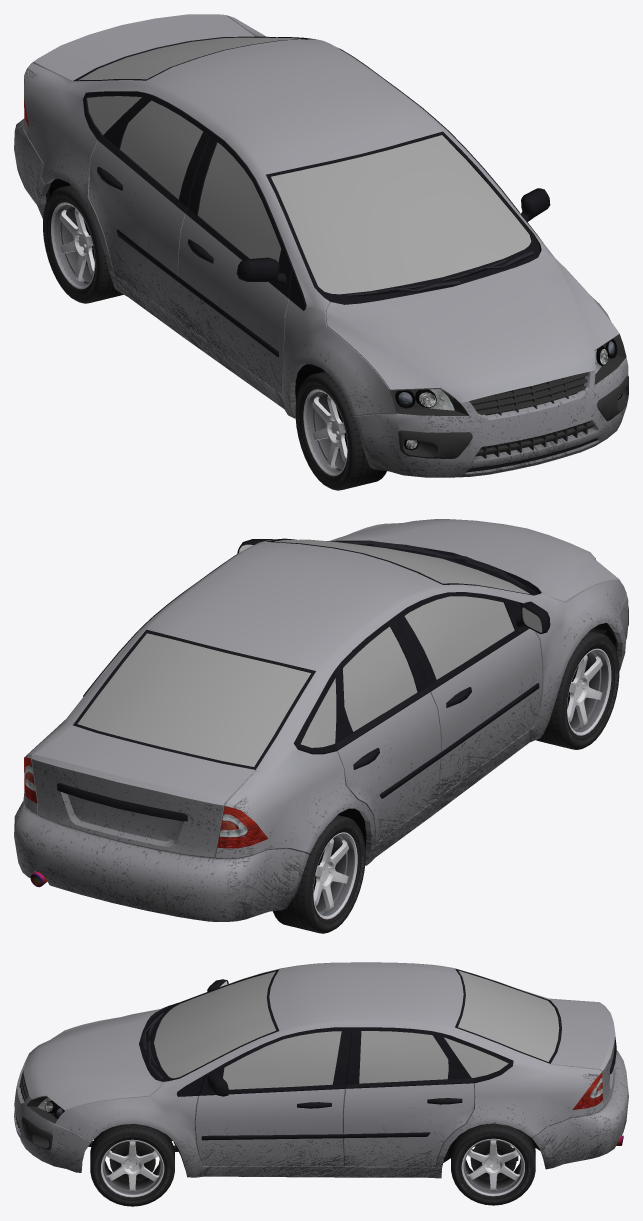
File: TocusUPDATED.fbx
3 views of the same model, one above another, from view 1: azimuth 30°, elevation 25°; view 2: azimuth 150°, elevation 25°; view 3: azimuth 270°, elevation 25° (orthographic). The views are drawn at different scales.
Visible parts, largest first — view 1: Tocus_Body, Tocus_Win_Front, Tocus_Hood_Front, Tocus_Bamper_Front, Tocus_Door_Right_Front, Tocus_Door_Right_Back, Tocus_Wheel_Right_Front, Tocus_Hood_Back, Tocus_Wheel_Right_Back, Tocus_Win_Door_Right_Front, Tocus_Win_Door_Right_Back, Tocus_Win_Back (+6 smaller); view 2: Tocus_Body, Tocus_Hood_Back, Tocus_Win_Back, Tocus_Bamper_Back, Tocus_Door_Right_Front, Tocus_Door_Right_Back, Tocus_Hood_Front, Tocus_Wheel_Right_Back, Tocus_Wheel_Right_Front, Tocus_Win_Door_Right_Front, Tocus_Win_Door_Right_Back, Tocus_Win_Front (+5 smaller); view 3: Tocus_Body, Tocus_Door_Left_Front, Tocus_Door_Left_Back, Tocus_Hood_Front, Tocus_Win_Front, Tocus_Wheel_Left_Font, Tocus_Wheel_Left_Back, Tocus_Win_Back, Tocus_Win_Door_Left_Front, Tocus_Bamper_Back, Tocus_Win_Door_Left_Back, Tocus_Hood_Back (+5 smaller).
Boxes of the visible parts, bbox=[...] form: Tocus_Body: bbox=[23, 15, 619, 418]; Tocus_Win_Front: bbox=[271, 135, 531, 294]; Tocus_Hood_Front: bbox=[325, 250, 619, 403]; Tocus_Bamper_Front: bbox=[353, 358, 628, 477]; Tocus_Door_Right_Front: bbox=[177, 132, 293, 393]; Tocus_Door_Right_Back: bbox=[88, 93, 212, 321]; Tocus_Wheel_Right_Front: bbox=[295, 371, 386, 490]; Tocus_Hood_Back: bbox=[32, 14, 254, 81]; Tocus_Wheel_Right_Back: bbox=[43, 185, 123, 303]; Tocus_Win_Door_Right_Front: bbox=[198, 142, 281, 262]; Tocus_Win_Door_Right_Back: bbox=[120, 100, 203, 199]; Tocus_Win_Back: bbox=[79, 37, 304, 80]; Tocus_Body: bbox=[23, 538, 626, 865]; Tocus_Hood_Back: bbox=[31, 725, 255, 858]; Tocus_Win_Back: bbox=[77, 633, 310, 766]; Tocus_Bamper_Back: bbox=[14, 800, 308, 921]; Tocus_Door_Right_Front: bbox=[395, 592, 550, 798]; Tocus_Door_Right_Back: bbox=[334, 616, 441, 845]; Tocus_Hood_Front: bbox=[330, 519, 619, 602]; Tocus_Wheel_Right_Back: bbox=[273, 815, 365, 933]; Tocus_Wheel_Right_Front: bbox=[536, 631, 619, 749]; Tocus_Win_Door_Right_Front: bbox=[404, 596, 514, 679]; Tocus_Win_Door_Right_Back: bbox=[343, 626, 417, 731]; Tocus_Win_Front: bbox=[275, 539, 530, 594]; Tocus_Body: bbox=[55, 962, 604, 1178]; Tocus_Door_Left_Front: bbox=[195, 1027, 351, 1166]; Tocus_Door_Left_Back: bbox=[343, 1027, 474, 1167]; Tocus_Hood_Front: bbox=[23, 1008, 162, 1110]; Tocus_Win_Front: bbox=[154, 971, 276, 1078]; Tocus_Wheel_Left_Font: bbox=[90, 1124, 174, 1206]; Tocus_Wheel_Left_Back: bbox=[451, 1123, 535, 1205]; Tocus_Win_Back: bbox=[458, 970, 559, 1061]; Tocus_Win_Door_Left_Front: bbox=[223, 1031, 341, 1089]; Tocus_Bamper_Back: bbox=[532, 1050, 628, 1169]; Tocus_Win_Door_Left_Back: bbox=[359, 1031, 448, 1083]; Tocus_Hood_Back: bbox=[551, 1000, 616, 1106].
Bounding box in the file's own units: 185 × 139 × 445.
